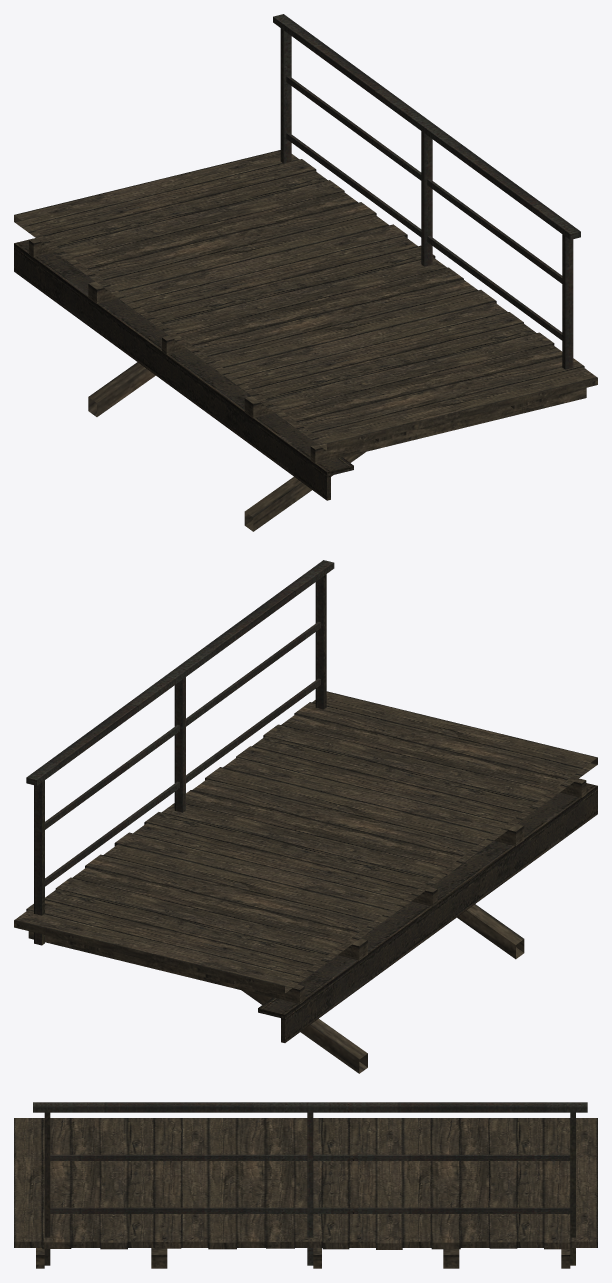
The model's file is platform_ax_2.obj.
3 views of the same model, one above another, from view 1: azimuth 30°, elevation 25°; view 2: azimuth 150°, elevation 25°; view 3: azimuth 270°, elevation 25° (orthographic). The views are drawn at different scales.
Parts seen in each view (by area): view 1: platform_ax_2; view 2: platform_ax_2; view 3: platform_ax_2.
Boxes of the visible parts, x1,y1,x2,y2 form: platform_ax_2: (14, 14, 597, 531); platform_ax_2: (14, 560, 597, 1073); platform_ax_2: (14, 1102, 597, 1268).
Bounding box in the file's own units: 2.03 × 1.99 × 4.
